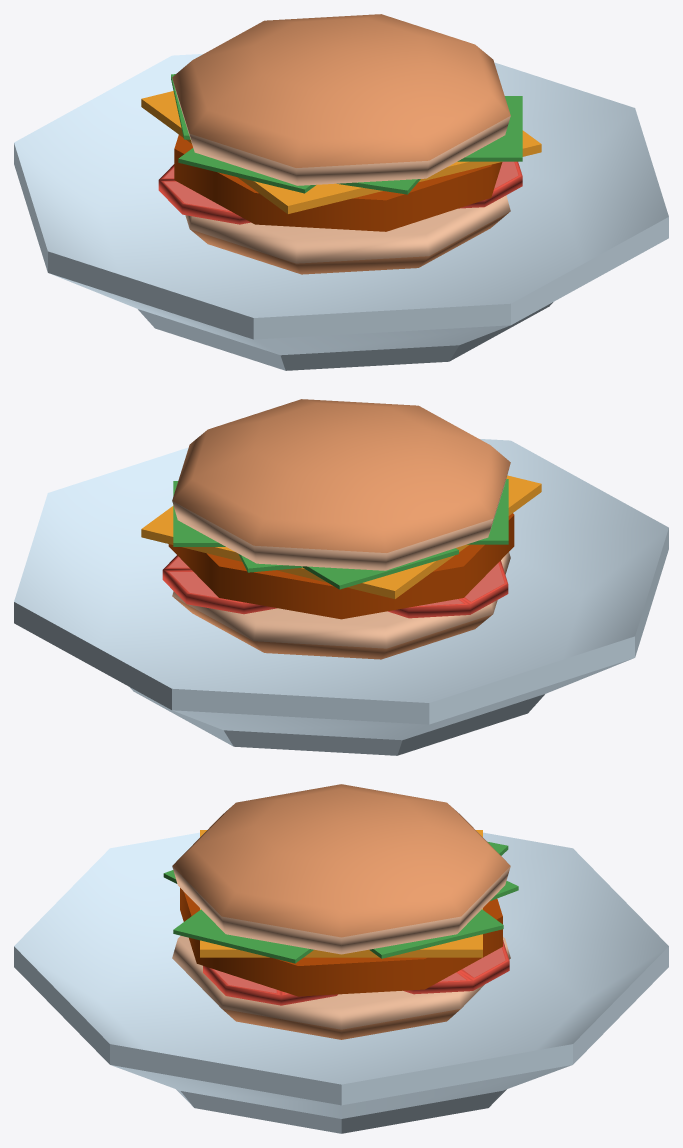
The model's file is Burger.fbx.
3 views of the same model, one above another, from view 1: azimuth 30°, elevation 25°; view 2: azimuth 150°, elevation 25°; view 3: azimuth 270°, elevation 25° (orthographic). The views are drawn at different scales.
Visible parts, largest first — view 1: Burger_Burger; view 2: Burger_Burger; view 3: Burger_Burger.
Part boxes in pixels (x1,y1,x2,y2): Burger_Burger: (14,14,668,370); Burger_Burger: (14,399,668,755); Burger_Burger: (14,784,668,1133).
Size of the model in its own units: 60.41 by 22.83 by 60.41.
